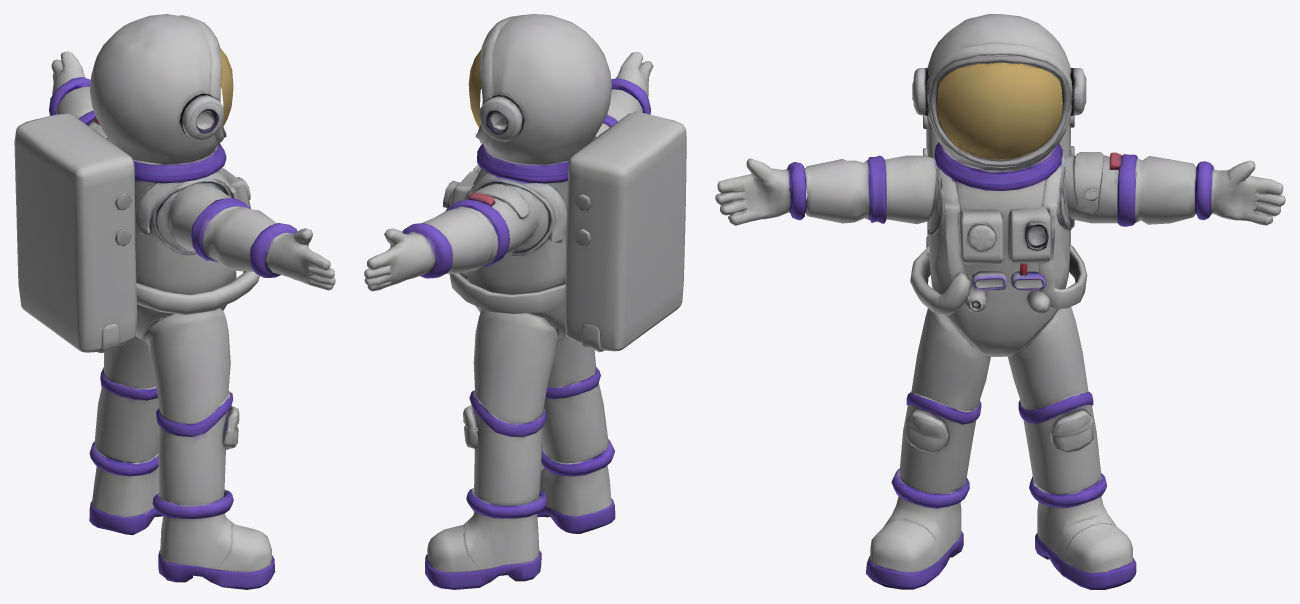
Rendered from r33-astronaut.glb.
3 views of the same model, side by side, from view 1: azimuth 30°, elevation 25°; view 2: azimuth 150°, elevation 25°; view 3: azimuth 270°, elevation 25° (orthographic). The views are drawn at different scales.
Parts seen in each view (by area): view 1: tripo_node_b6a29483-1b32-4f4d-8364-202010753518; view 2: tripo_node_b6a29483-1b32-4f4d-8364-202010753518; view 3: tripo_node_b6a29483-1b32-4f4d-8364-202010753518.
Part boxes in pixels (<box>): tripo_node_b6a29483-1b32-4f4d-8364-202010753518: <box>14,14,335,589</box>; tripo_node_b6a29483-1b32-4f4d-8364-202010753518: <box>364,14,686,589</box>; tripo_node_b6a29483-1b32-4f4d-8364-202010753518: <box>715,14,1285,589</box>.
Size of the model in its own units: 0.3926 by 0.998 by 0.9551.
1 material, 1 textured.
